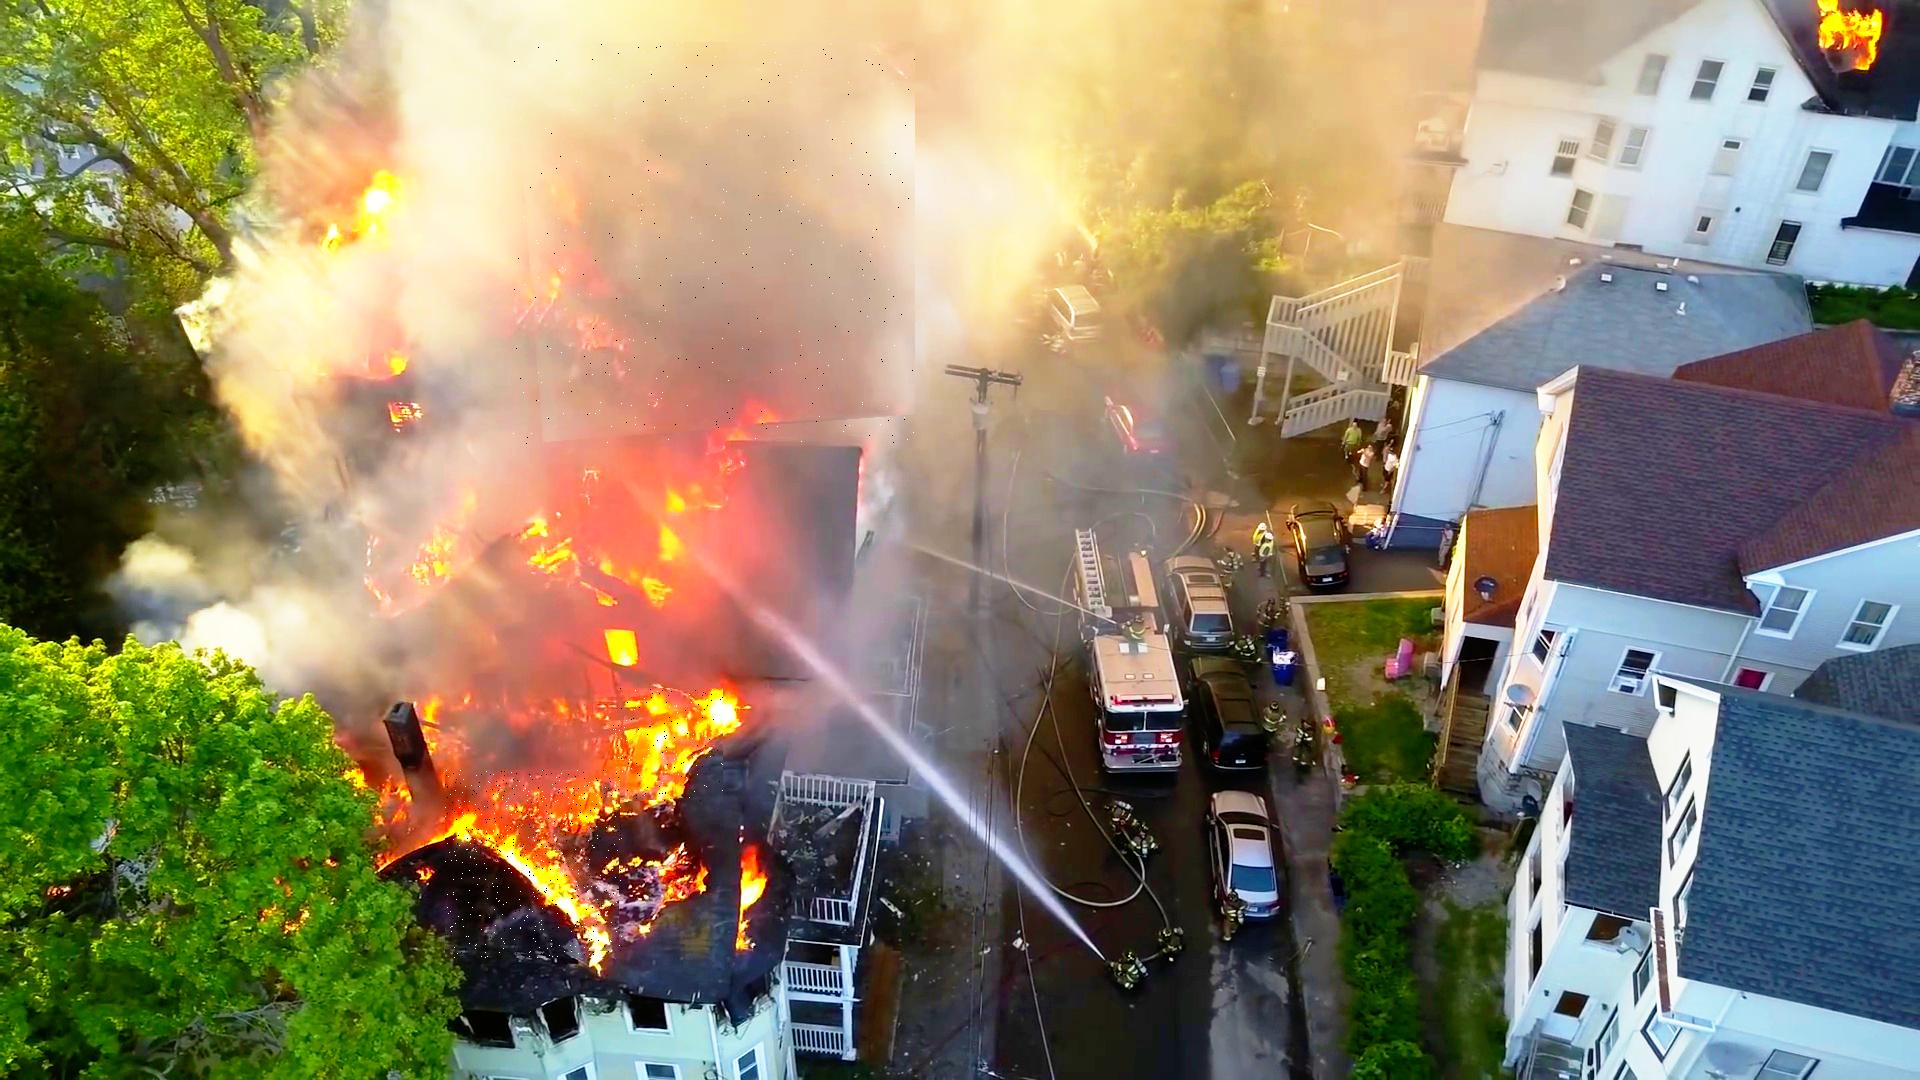fire: (446, 770, 622, 959), (611, 688, 723, 802)
smoke: (513, 42, 915, 444)
